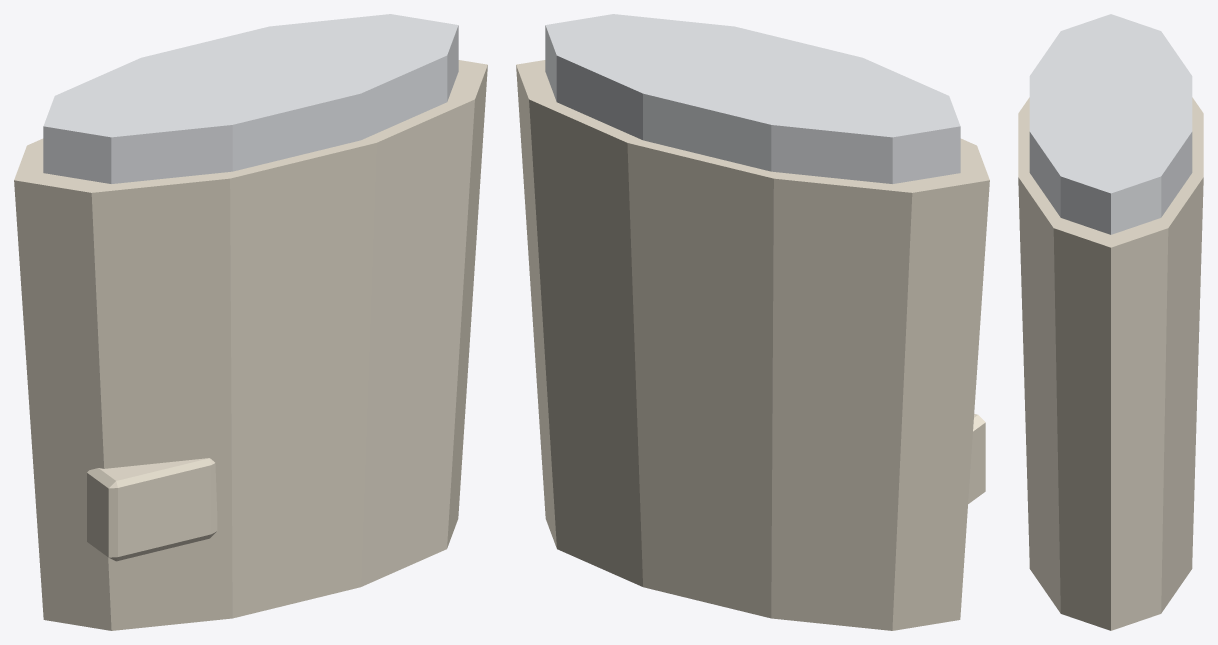
File: b17_baseball_fielders_glove.glb
The picture shows the model from 3 angles, left to right: view 1: azimuth 30°, elevation 25°; view 2: azimuth 150°, elevation 25°; view 3: azimuth 270°, elevation 25°; orthographic projection. The views are drawn at different scales.
Parts seen in each view (by area): view 1: b17_baseball_fielders_glove; view 2: b17_baseball_fielders_glove; view 3: b17_baseball_fielders_glove.
Boxes of the visible parts, x1=… form: b17_baseball_fielders_glove: x1=14, y1=14, x2=487, y2=630; b17_baseball_fielders_glove: x1=516, y1=14, x2=989, y2=630; b17_baseball_fielders_glove: x1=1018, y1=14, x2=1203, y2=630.
Bounding box in the file's own units: 0.217 × 0.216 × 0.083.
